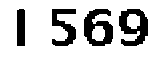5: (43, 6, 79, 50)
6: (85, 5, 114, 49)
9: (119, 6, 151, 51)
l: (11, 4, 34, 50)
